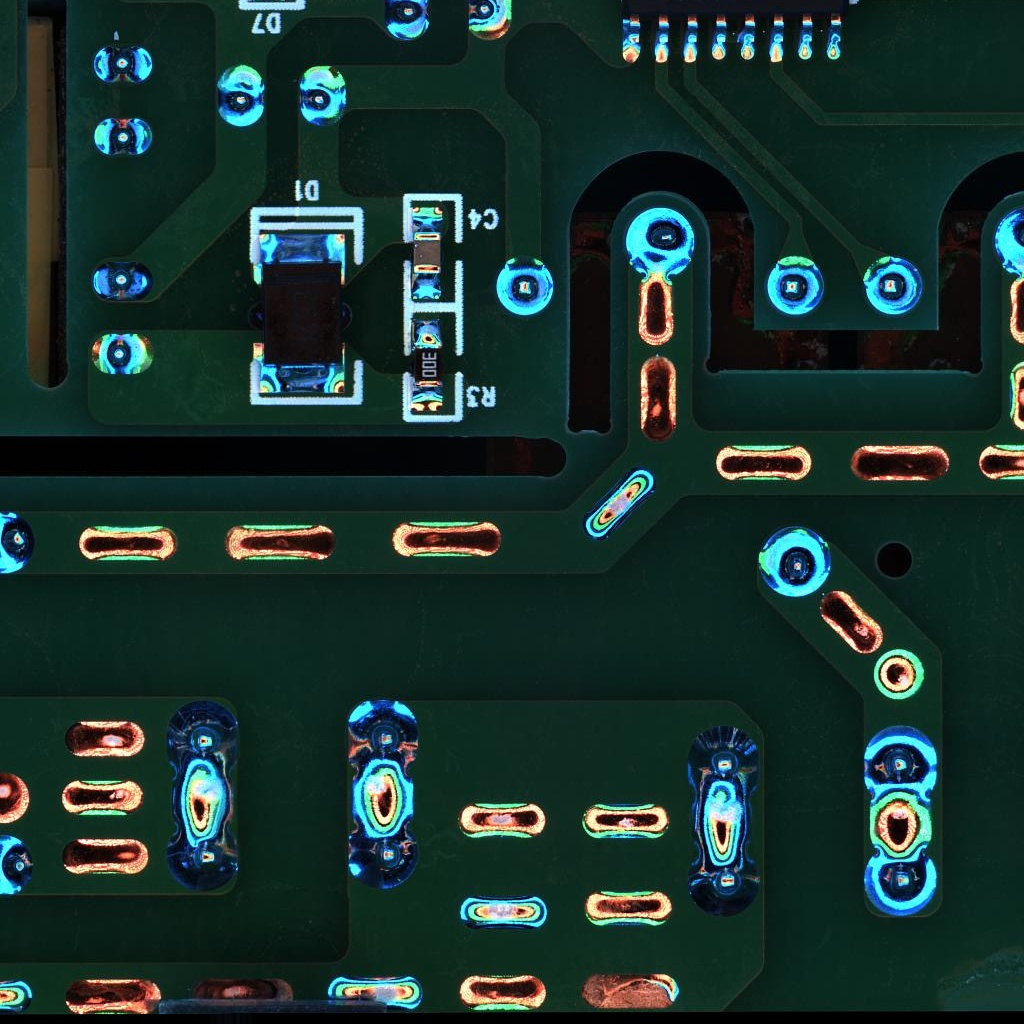spot: (862, 722, 940, 804), (345, 697, 421, 775), (757, 524, 834, 600), (622, 205, 697, 282), (685, 726, 762, 801), (164, 701, 240, 775), (162, 824, 243, 893), (345, 817, 420, 890), (861, 850, 940, 919), (688, 848, 762, 915), (862, 253, 925, 320), (764, 253, 826, 318), (495, 256, 558, 318), (294, 64, 349, 129), (86, 330, 158, 379), (213, 64, 265, 130), (89, 260, 154, 305), (90, 115, 155, 158), (91, 43, 156, 85), (1, 510, 37, 578), (994, 205, 1024, 285), (1, 834, 36, 898), (380, 1, 432, 42), (461, 1, 513, 41)
